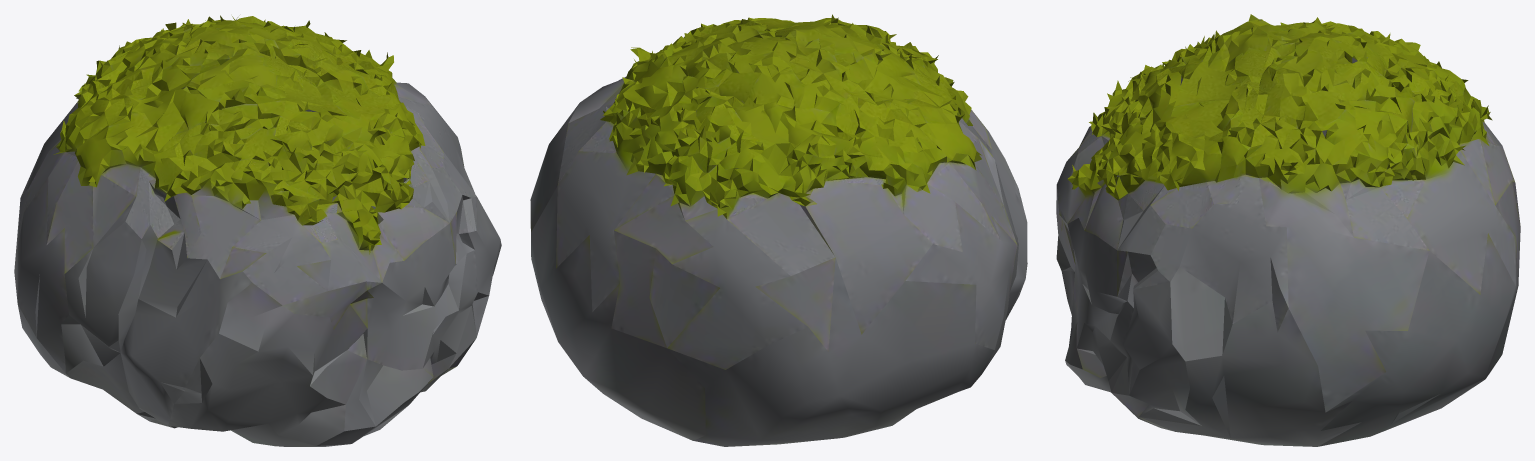
The model's file is scene_mossy_boulder.glb.
The picture shows the model from 3 angles, left to right: view 1: azimuth 30°, elevation 25°; view 2: azimuth 150°, elevation 25°; view 3: azimuth 270°, elevation 25°; orthographic projection. The views are drawn at different scales.
Bounding box in the file's own units: 1.9 × 1.43 × 1.74.
1 material, 1 textured.
